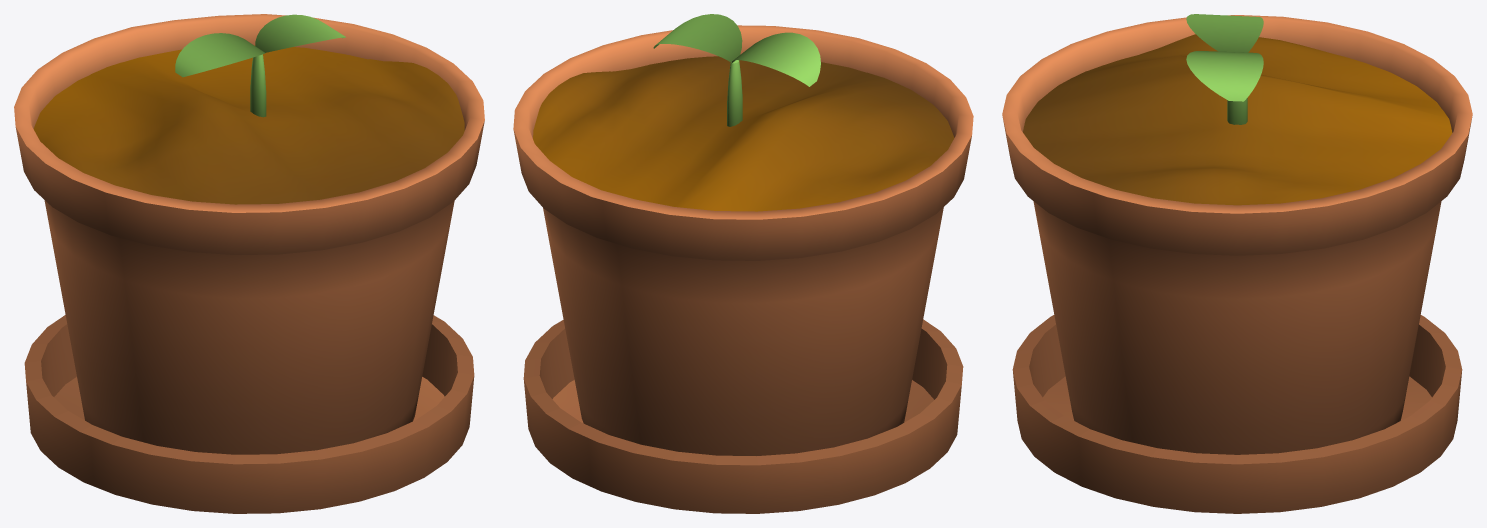
The model's file is Pot2.fbx.
3 views of the same model, side by side, from view 1: azimuth 30°, elevation 25°; view 2: azimuth 150°, elevation 25°; view 3: azimuth 270°, elevation 25° (orthographic). The views are drawn at different scales.
Parts seen in each view (by area): view 1: Pot, Dirt, Schaal, Sapling; view 2: Pot, Dirt, Schaal, Sapling; view 3: Pot, Dirt, Schaal, Sapling.
Boxes of the visible parts, bbox=[...] form: Pot: bbox=[14, 14, 484, 454]; Dirt: bbox=[33, 45, 464, 204]; Schaal: bbox=[24, 315, 474, 513]; Sapling: bbox=[175, 14, 345, 117]; Pot: bbox=[513, 25, 973, 455]; Dirt: bbox=[533, 56, 954, 211]; Schaal: bbox=[523, 319, 963, 513]; Sapling: bbox=[653, 14, 820, 126]; Pot: bbox=[1002, 15, 1472, 454]; Dirt: bbox=[1023, 34, 1452, 205]; Schaal: bbox=[1012, 315, 1462, 513]; Sapling: bbox=[1186, 14, 1263, 124].
Bounding box in the file's own units: 285 × 259 × 285.
